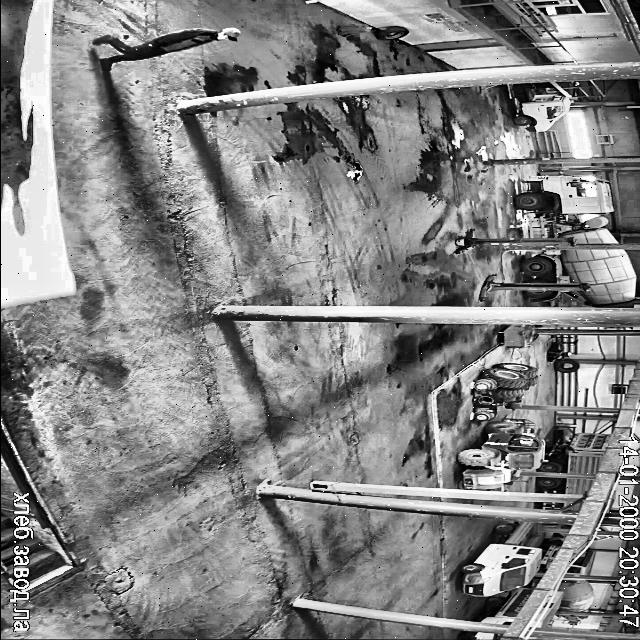car lift: (455, 229, 574, 253), (479, 275, 588, 300)
mechanic: (93, 28, 240, 71)
tractor: (458, 418, 544, 489), (474, 362, 537, 420)
truck: (516, 176, 616, 244), (522, 248, 635, 306), (460, 521, 540, 596), (539, 433, 612, 474), (514, 84, 570, 132), (482, 588, 532, 624), (557, 580, 594, 610), (538, 477, 592, 494), (538, 592, 562, 628), (567, 549, 595, 574), (543, 536, 563, 570), (461, 632, 500, 640), (479, 616, 510, 624), (542, 500, 566, 508), (564, 616, 587, 621), (569, 504, 580, 510)
